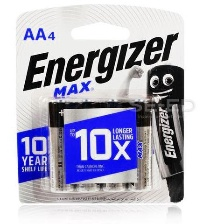battery: (120, 97, 157, 195), (98, 97, 131, 195), (69, 97, 102, 195), (47, 97, 78, 195)
book: (11, 1, 191, 208)
